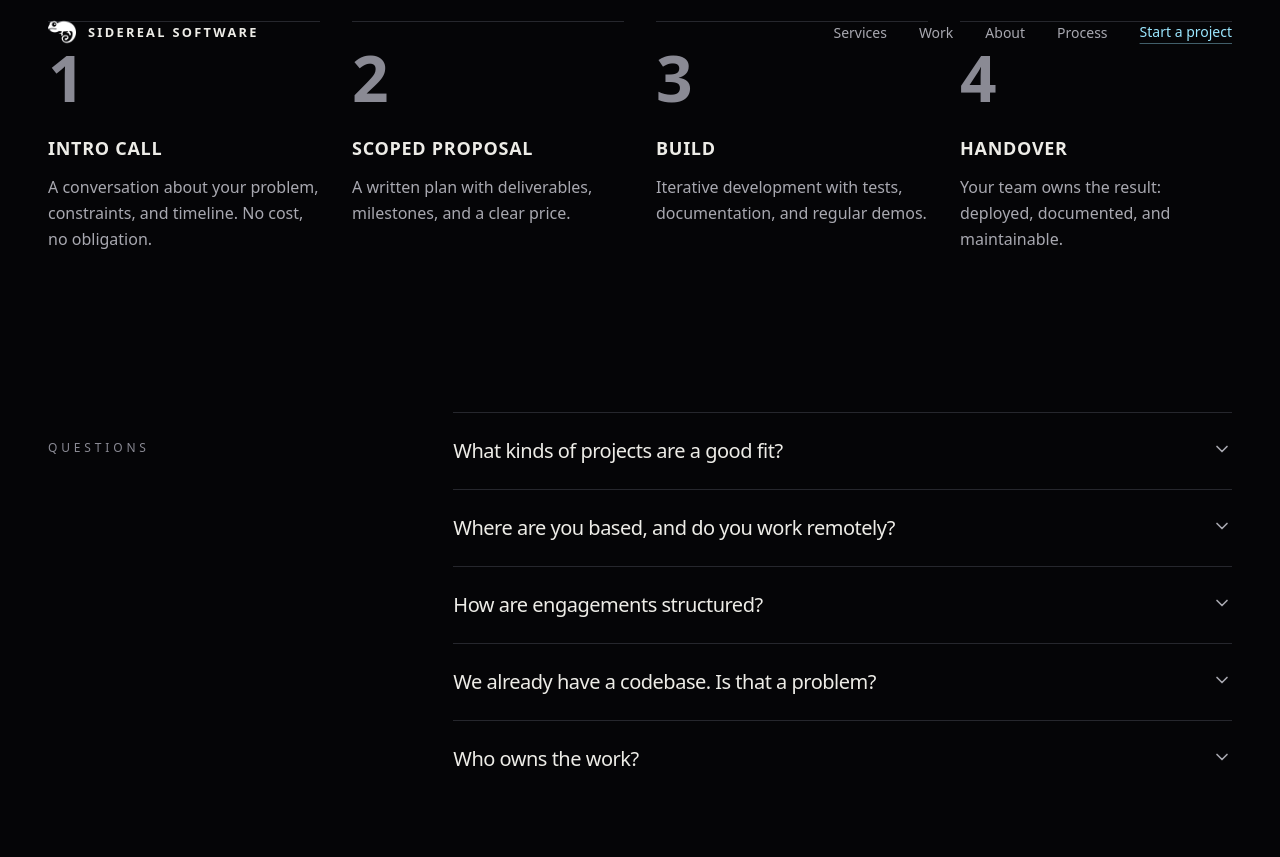
Test: App › walks through the four process steps and answers questions on demand
This screenshot has width=1280, height=857.
(page scrolled)
expect the headings read "Step 1: Intro call", "Step 2: Scoped proposal", "Step 3: Build", "Step 4: Handover", in this order: met, box [47, 135, 162, 160]; [351, 135, 533, 160]; [655, 135, 722, 160]; [959, 135, 1068, 160]
expect the text "Observatory control systems" is not shown: met
Click the button "What kinds of projects are a good fit?": (618, 450) [453, 413, 1232, 489]
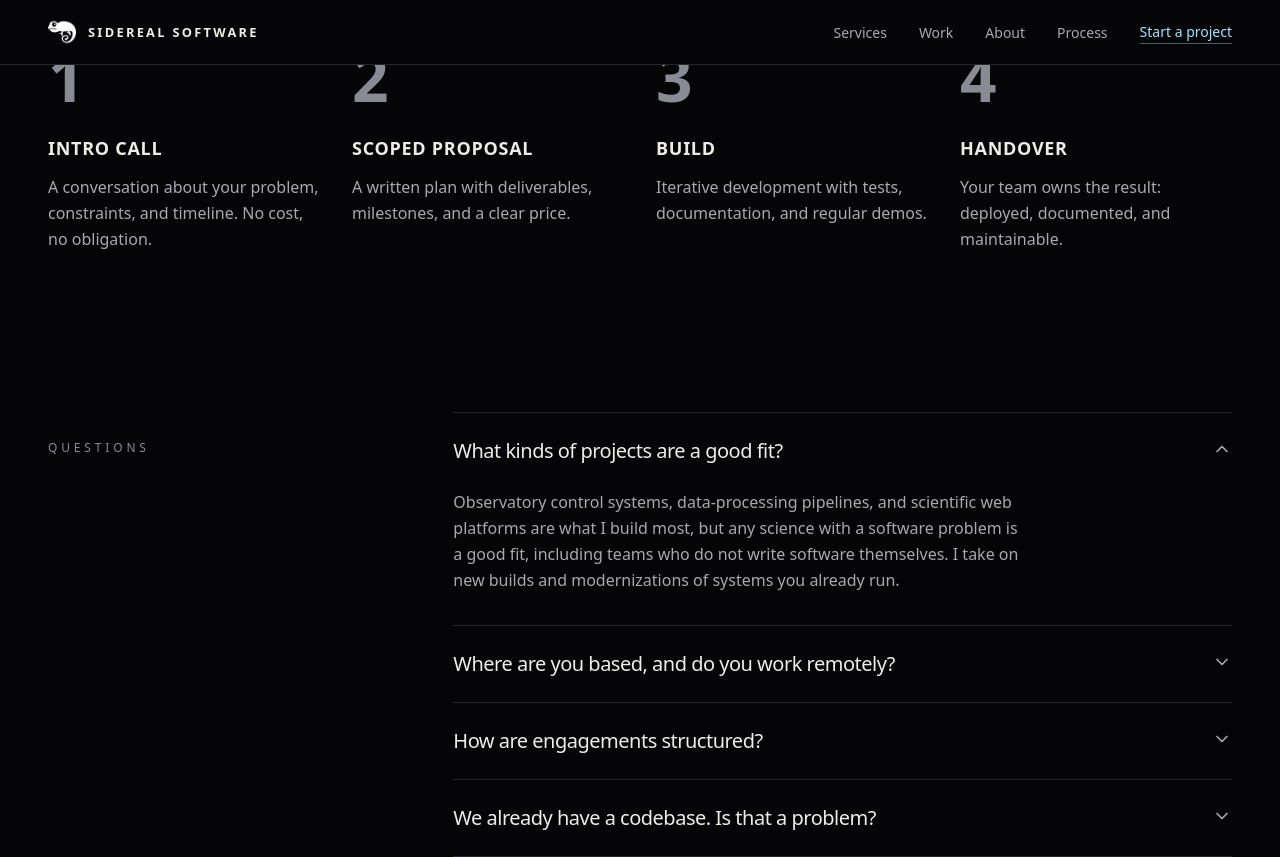
expect the text "Observatory control systems" is shown: met, box [453, 491, 1018, 591]
